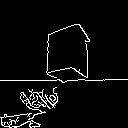cube: (40, 19, 100, 85)
